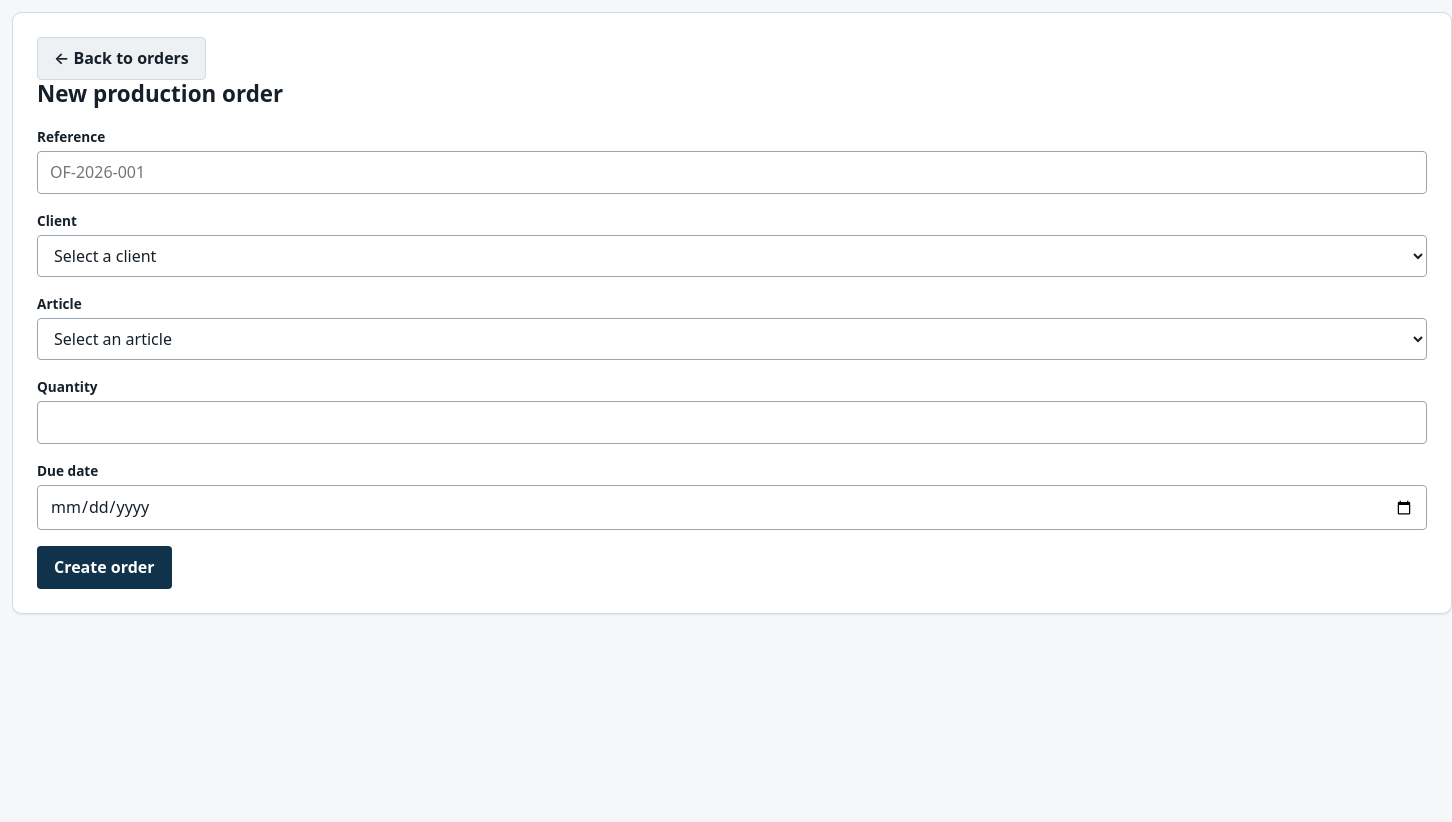
Scenario: NewOrderPage › creates an order and shows its draft status
Expected: the dropdown labelled "Client" is shown, [37,235,1427,277]
In the field labelled "Reference": (732, 173) [37,151,1427,194], type "  OF-2026-001  "
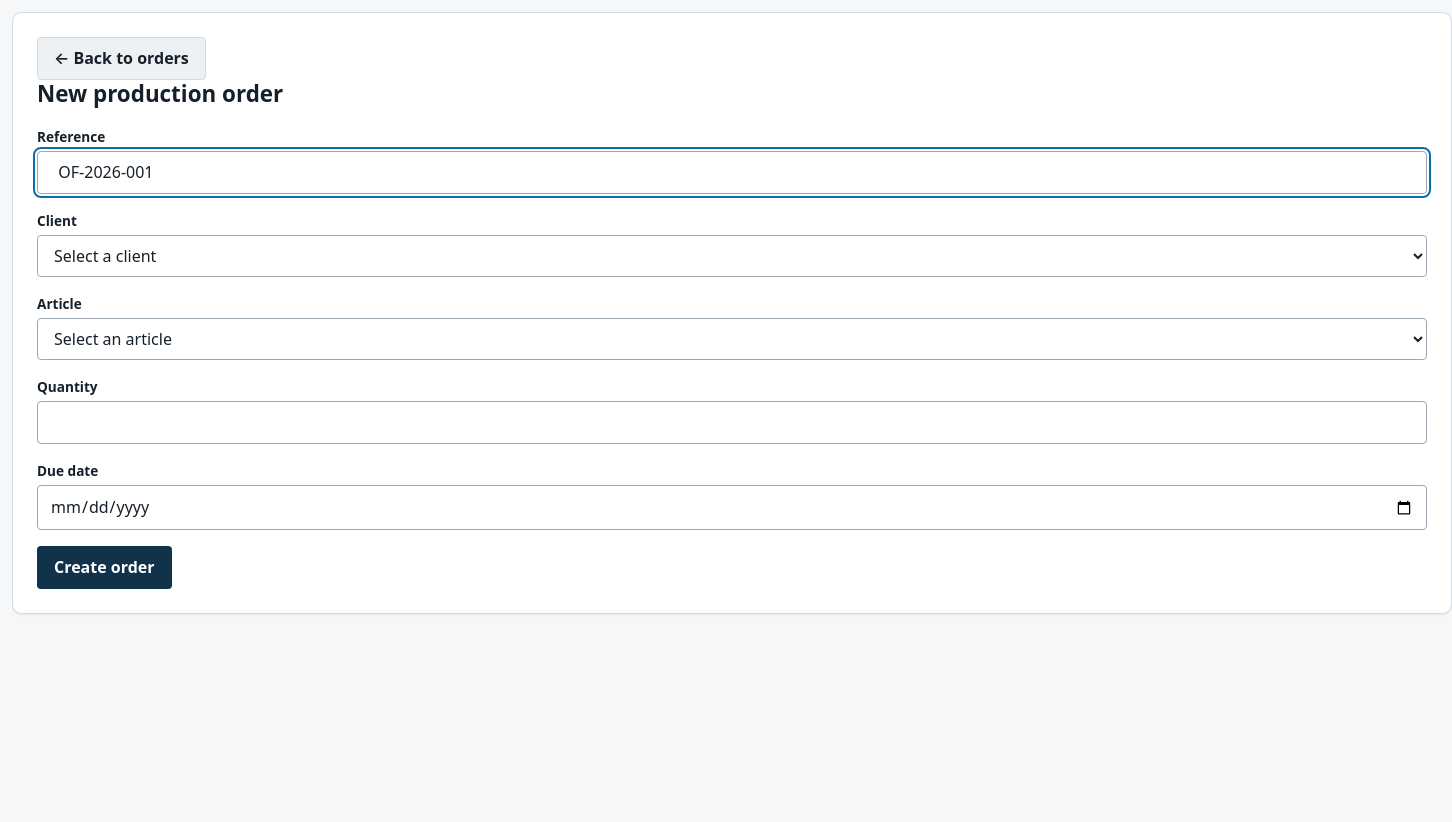
Select "Maison Textile" in the dropdown labelled "Client": (732, 256) [37,235,1427,277]
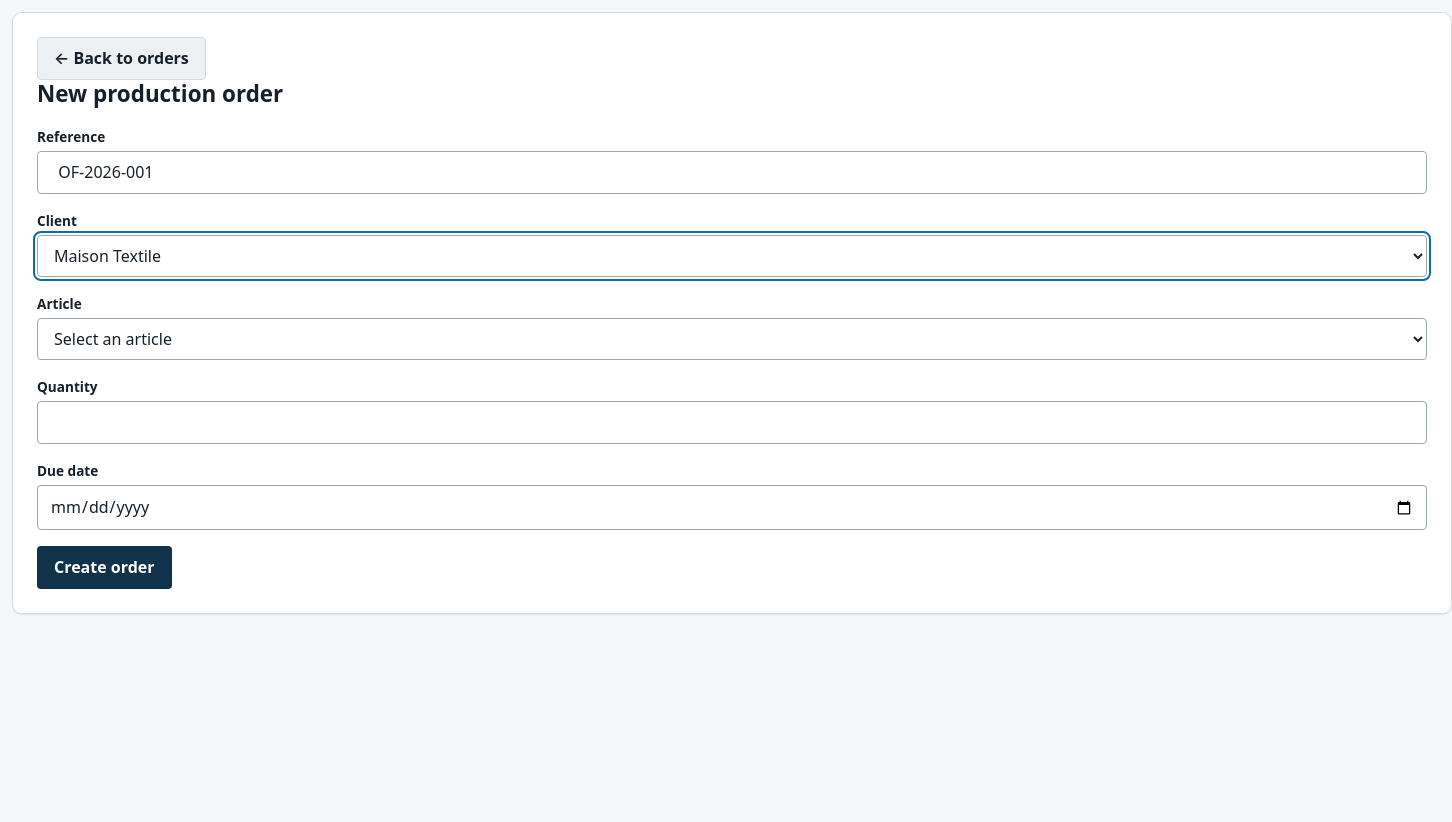
Select "ART-100 — Chemise" in the dropdown labelled "Article": (732, 339) [37,318,1427,360]
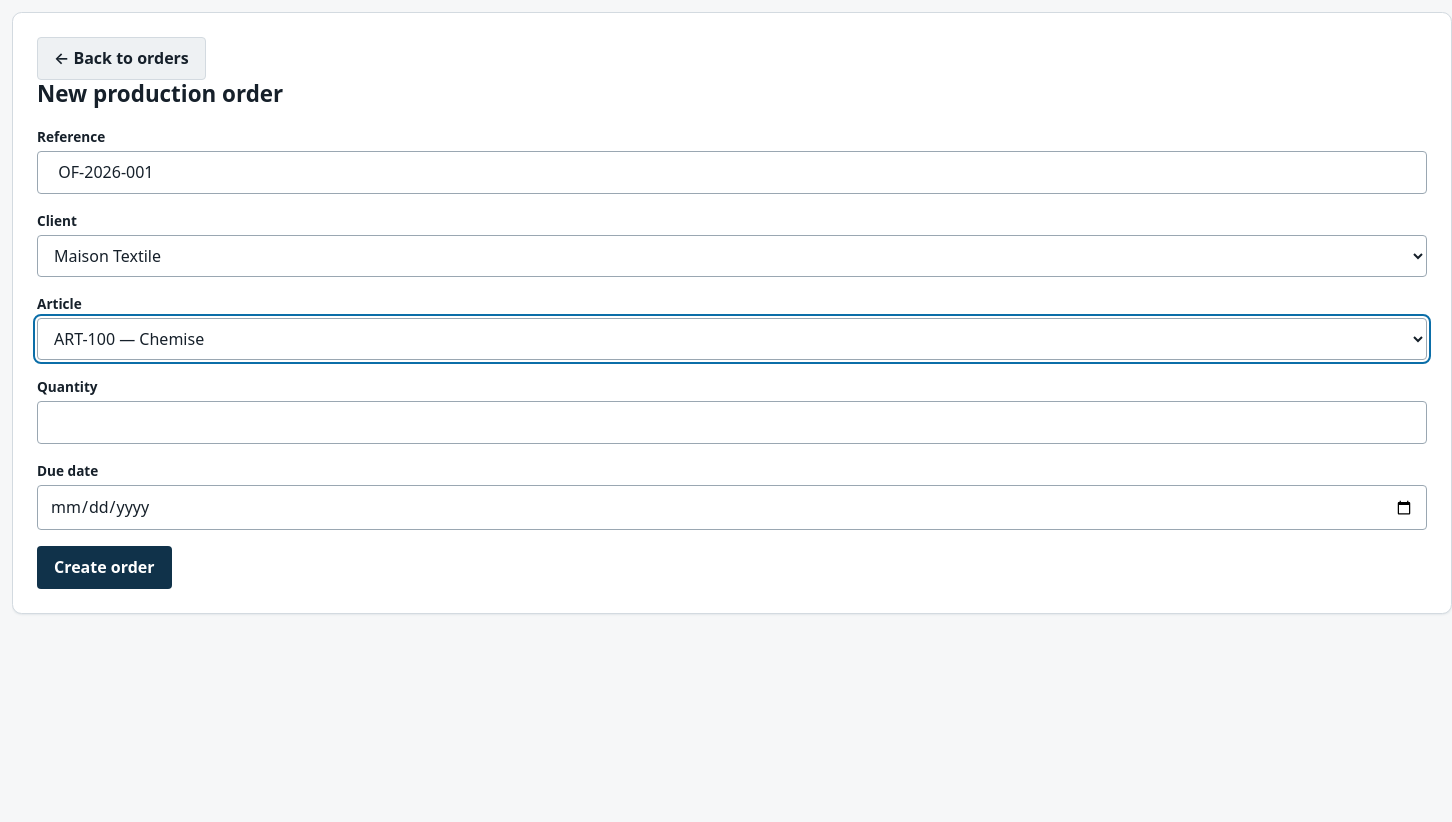
In the number field labelled "Quantity": (732, 423) [37,401,1427,444], type "250"
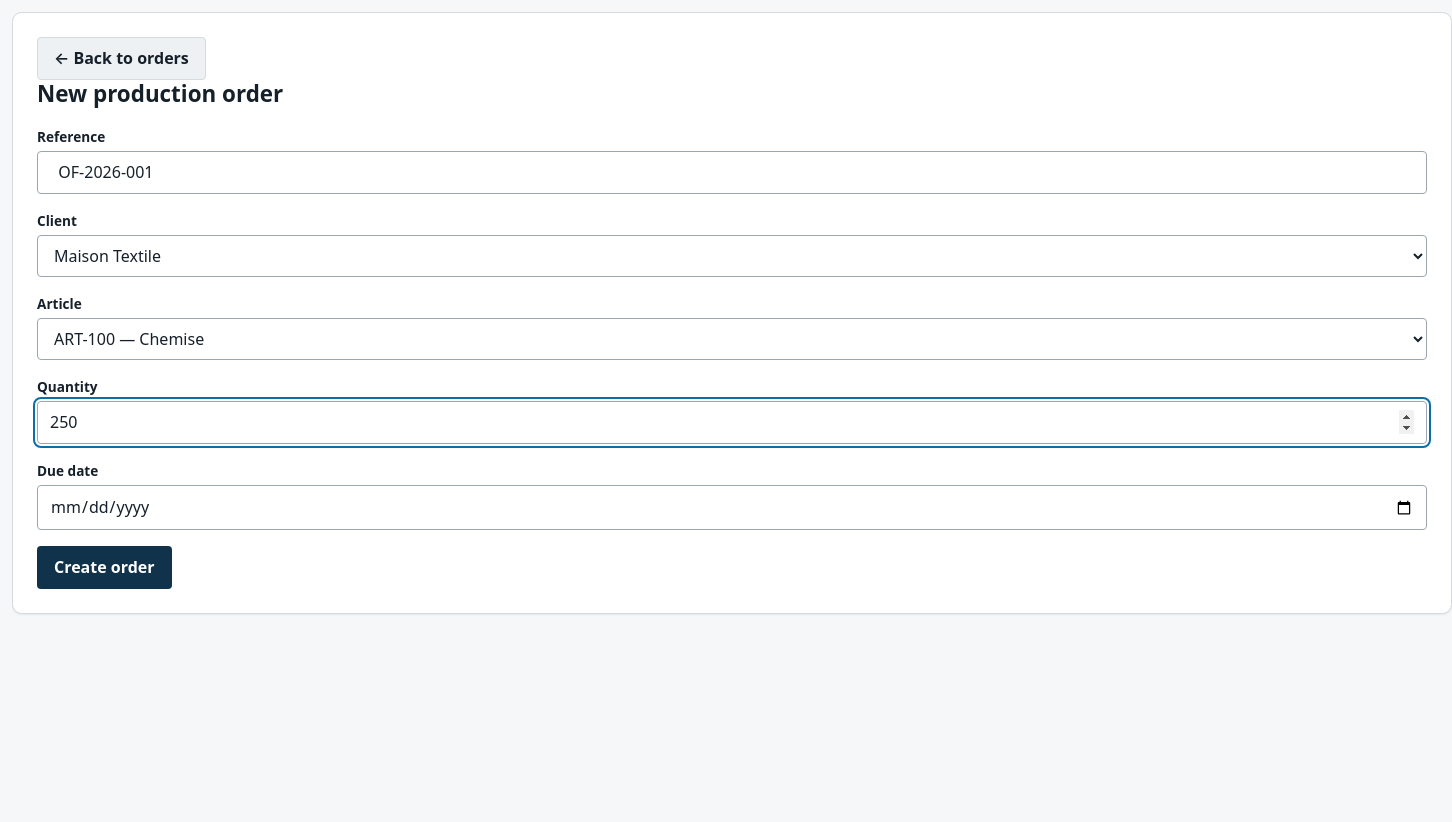
In the date field labelled "Due date": (732, 508) [37,485,1427,530], type "2026-12-15"
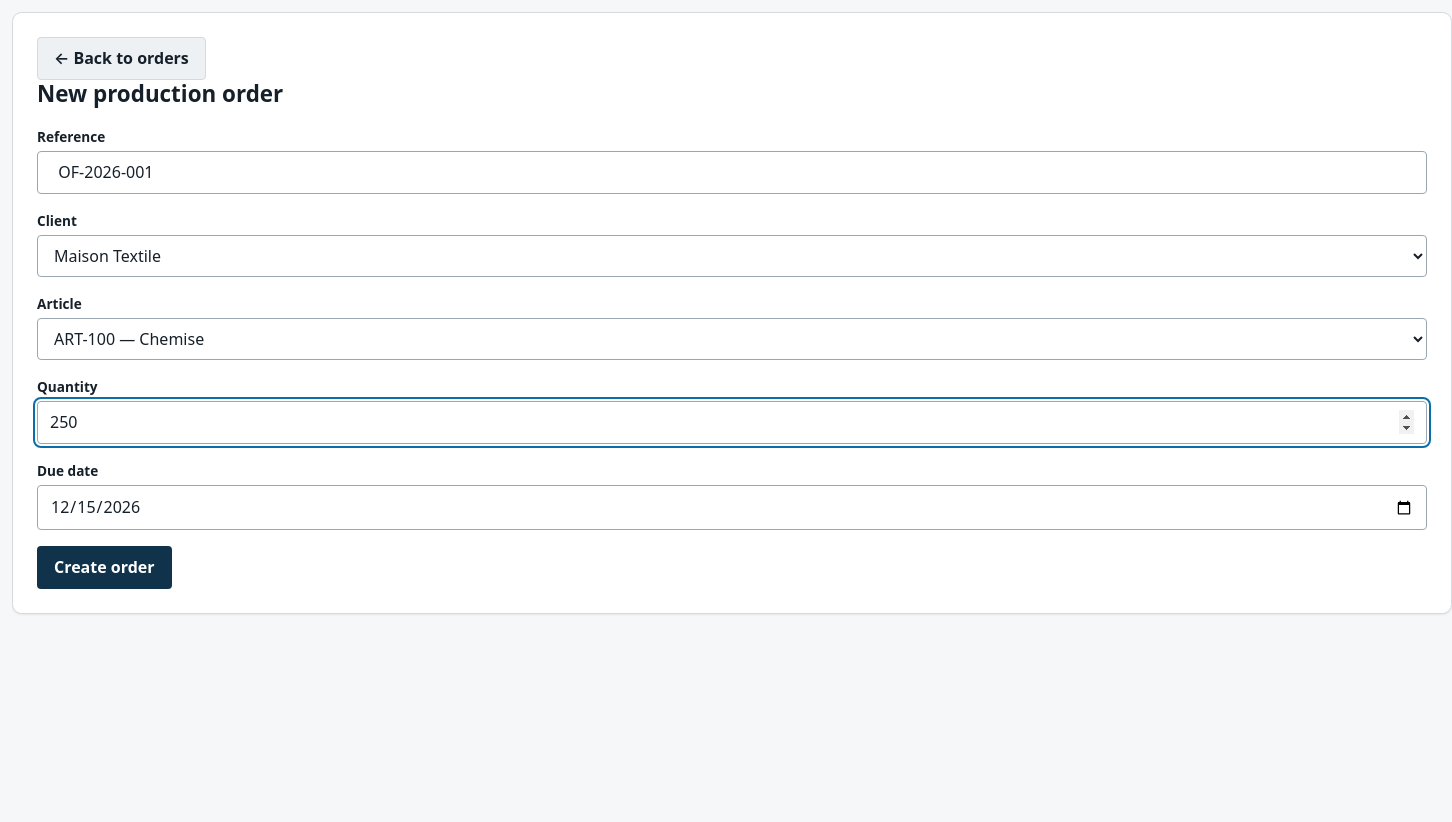
Click the button "Create order": (104, 568) [37,546,172,589]
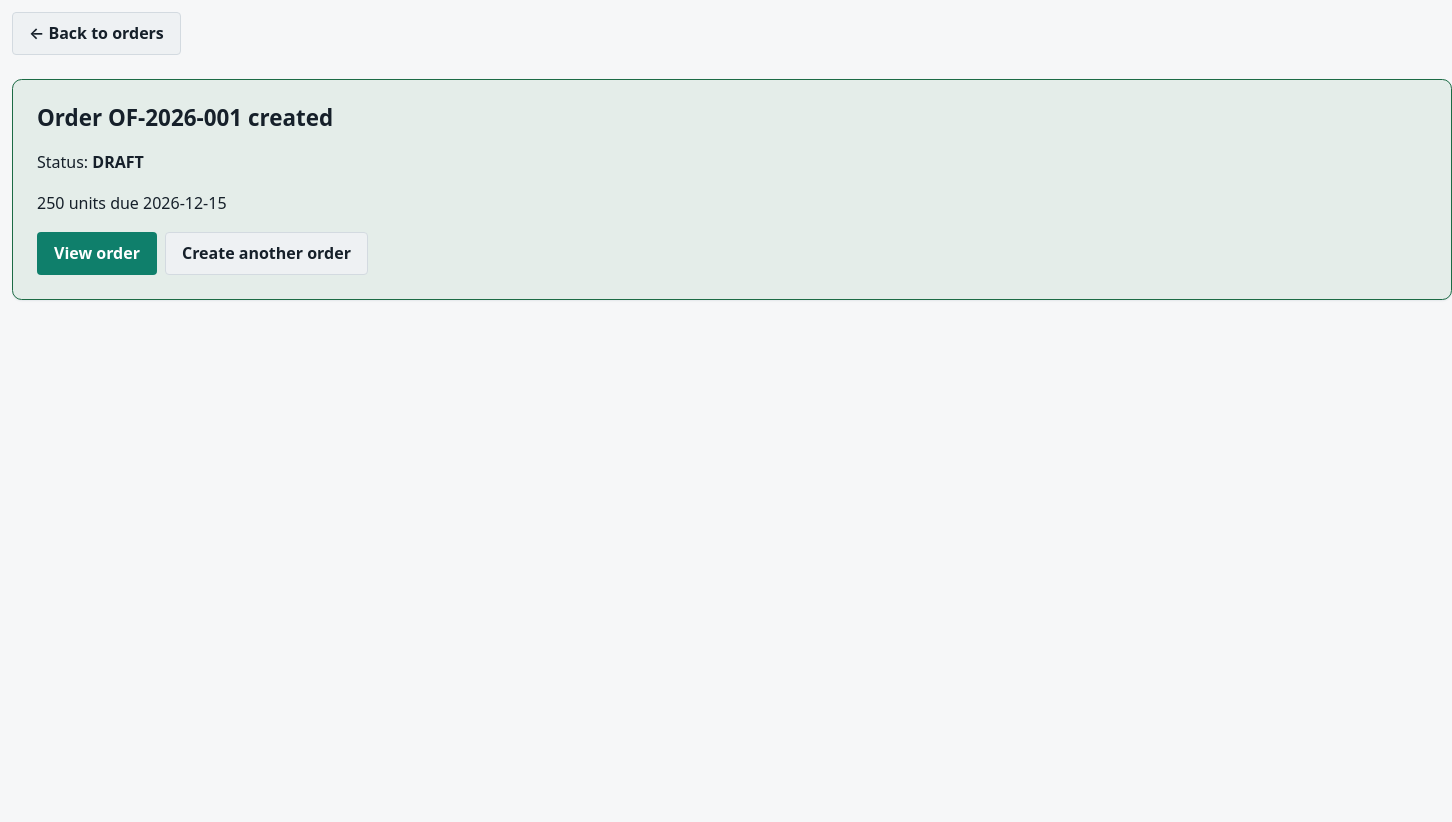
Expected: the heading "Order OF-2026-001 created" is shown, [37,102,333,133]
Expected: the text "DRAFT" is shown, [92,151,144,173]
